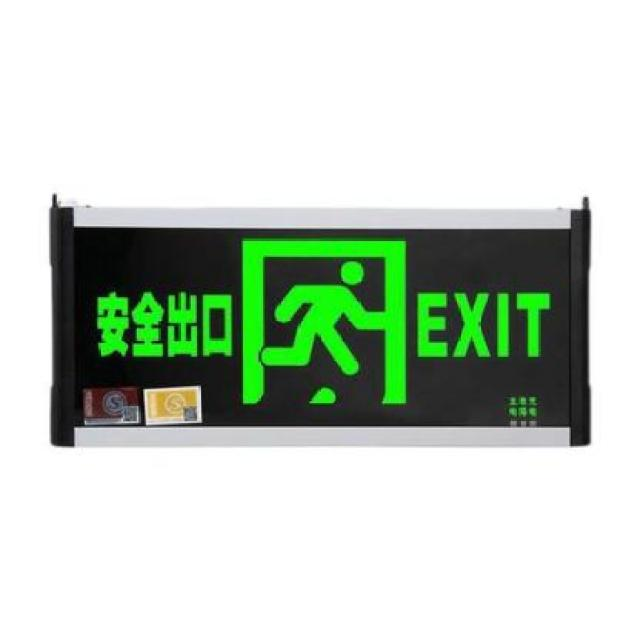exit_sign: (36, 191, 610, 463)
